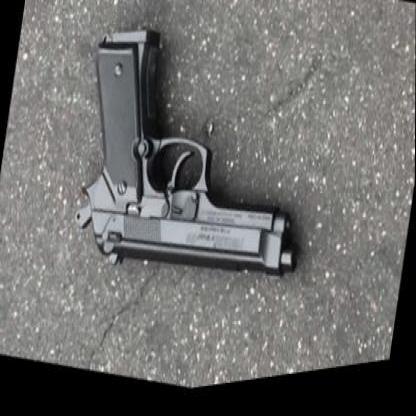pistol: (52, 0, 332, 326)
